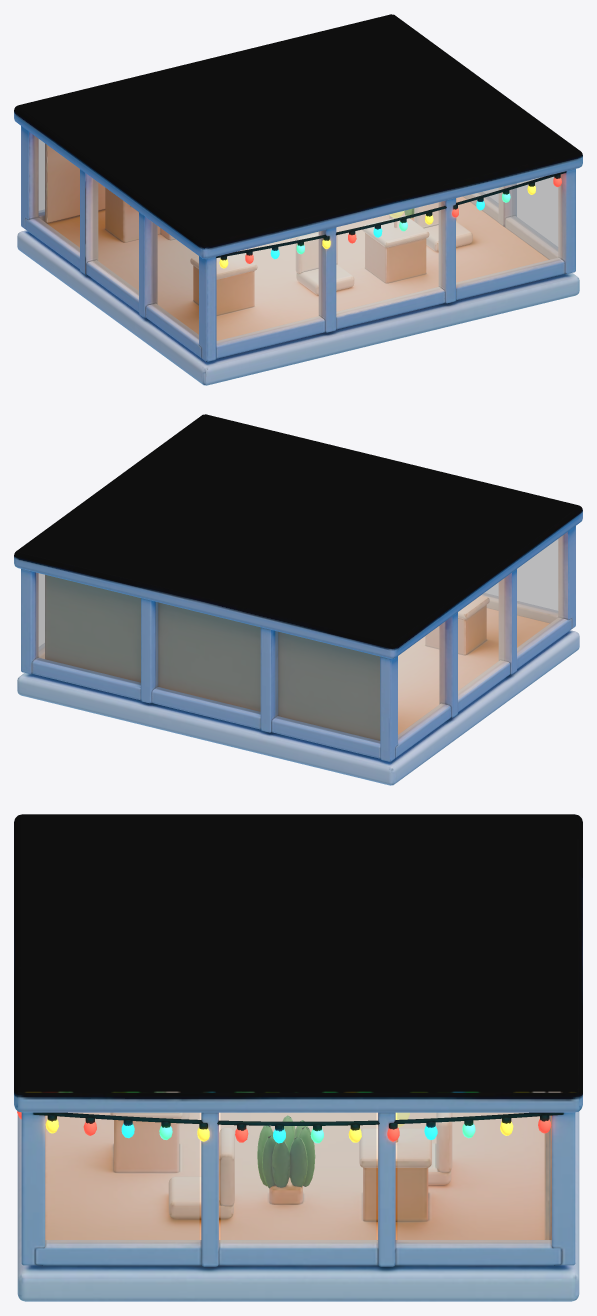
Rendered from winter-floor.glb.
3 views of the same model, one above another, from view 1: azimuth 30°, elevation 25°; view 2: azimuth 150°, elevation 25°; view 3: azimuth 270°, elevation 25° (orthographic). The views are drawn at different scales.
Visible parts, largest first — view 1: Baked_floor, FloorBody • Windows • clear thin glass; view 2: Baked_floor, FloorBody • Windows • clear thin glass; view 3: Baked_floor, FloorBody • Windows • clear thin glass, FloorBody • Garland • ruby.
Boxes of the visible parts, box(x1,y1,x2,y2) form: Baked_floor: box(14, 14, 582, 385); FloorBody • Windows • clear thin glass: box(33, 135, 560, 343); Baked_floor: box(14, 414, 582, 785); FloorBody • Windows • clear thin glass: box(36, 535, 563, 743); Baked_floor: box(14, 814, 582, 1301); FloorBody • Windows • clear thin glass: box(45, 1113, 551, 1243); FloorBody • Garland • ruby: box(17, 1111, 551, 1142).
Size of the model in its own units: 3.72 by 1.35 by 3.22.
Materials: 7 (1 with a texture image).
